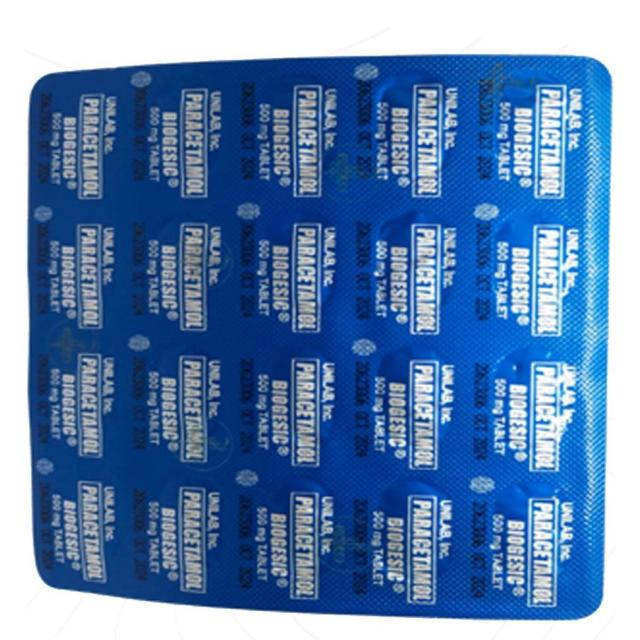blister: (13, 51, 618, 618)
